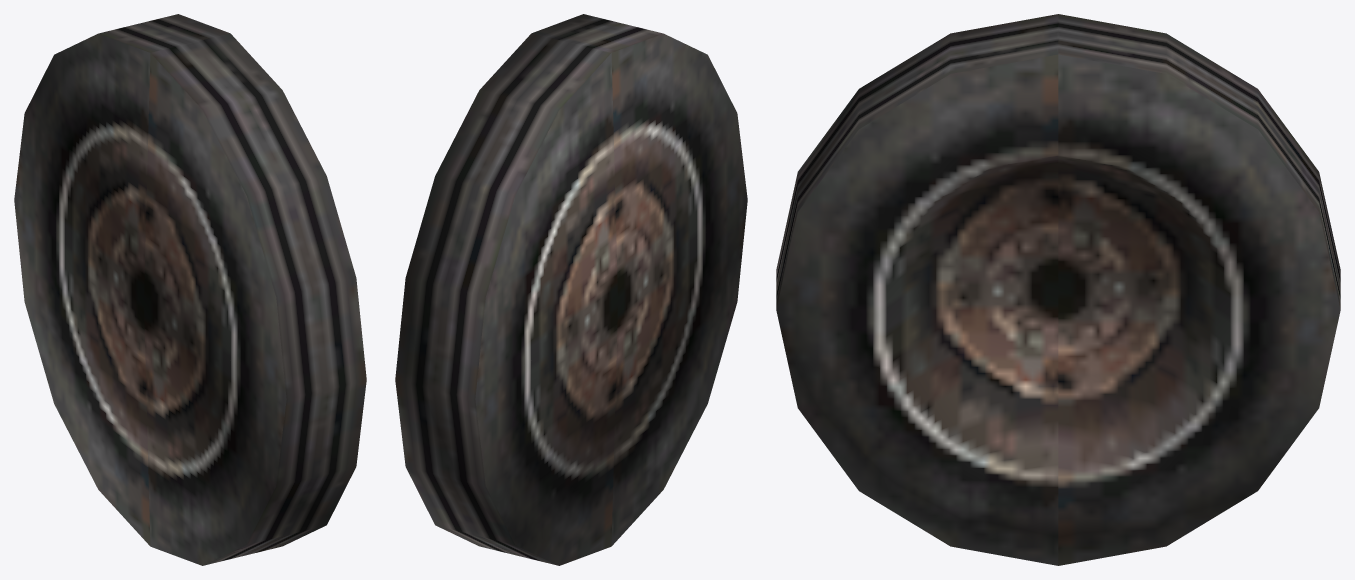
Rendered from tractor_front_wheel.obj.
3 renders of one model, left to right at view 1: azimuth 30°, elevation 25°; view 2: azimuth 150°, elevation 25°; view 3: azimuth 270°, elevation 25°, orthographic. The views are drawn at different scales.
Parts seen in each view (by area): view 1: front_wheel_2_tractor.060; view 2: front_wheel_2_tractor.060; view 3: front_wheel_2_tractor.060.
Boxes of the visible parts, box(x1,y1,x2,y2) form: front_wheel_2_tractor.060: box(14, 14, 366, 565); front_wheel_2_tractor.060: box(395, 14, 747, 565); front_wheel_2_tractor.060: box(776, 14, 1340, 565).
Bounding box in the file's own units: 0.3448 × 1.68 × 1.68.
